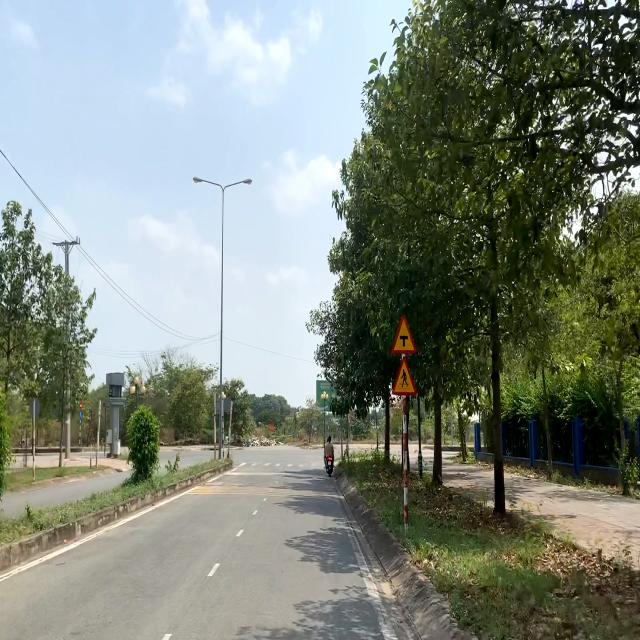W.205d: (391, 314, 417, 355)
W.224: (391, 354, 417, 396)
